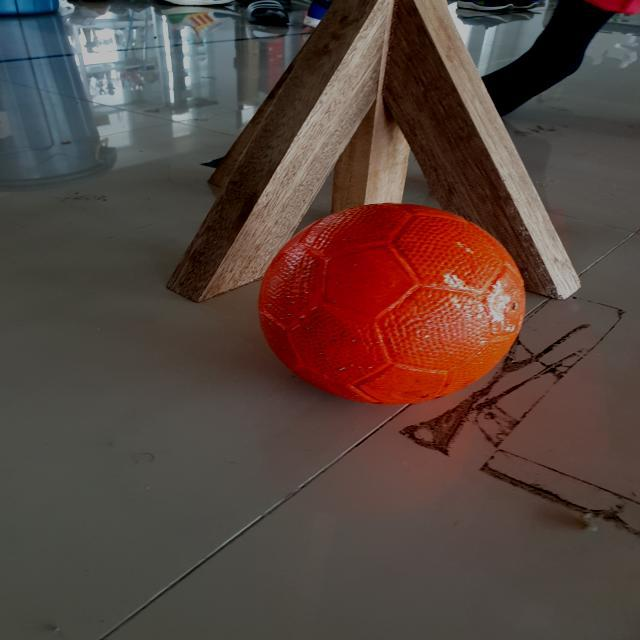bola: (252, 193, 536, 412)
